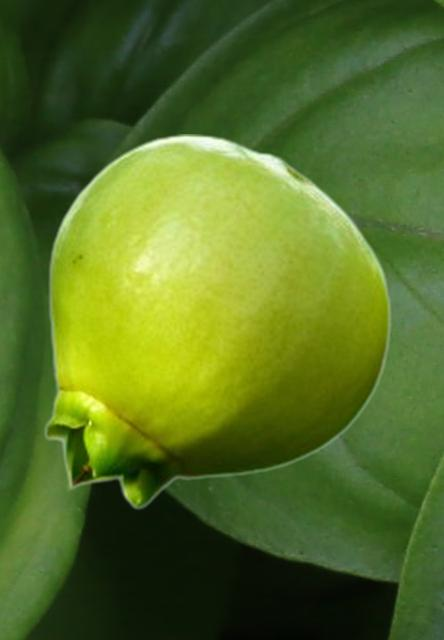guava: (43, 134, 391, 509)
